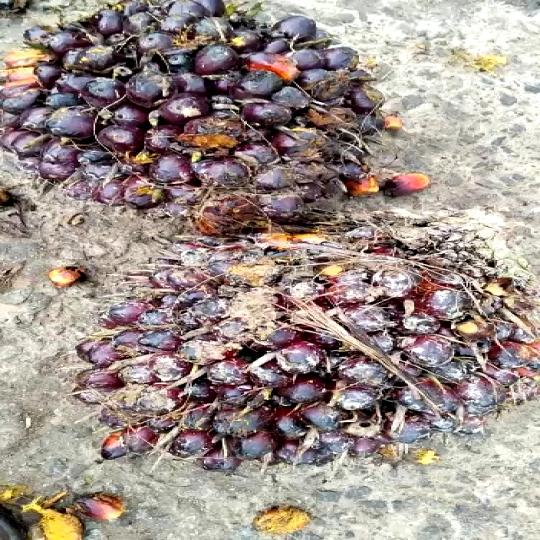kurang masak: (70, 214, 529, 492), (0, 0, 371, 239)
